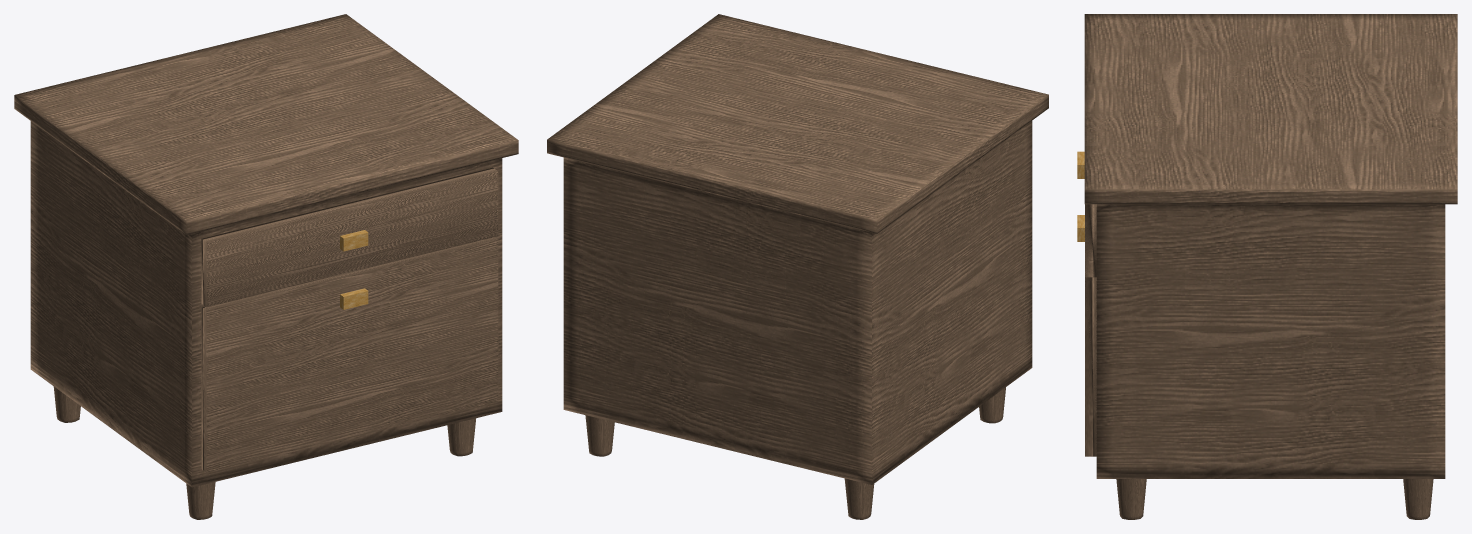
The model's file is nightstand.fbx.
The picture shows the model from 3 angles, left to right: view 1: azimuth 30°, elevation 25°; view 2: azimuth 150°, elevation 25°; view 3: azimuth 270°, elevation 25°; orthographic projection. The views are drawn at different scales.
Visible parts, largest first — view 1: base, drawer.002, drawer.001, support.001, support.002, support.003; view 2: base, support.003, support.004, support.001; view 3: base, drawer.002, support.002, support.004, drawer.001.
Part boxes in pixels (box(x1,y1,x2,y2)): base: box(14, 14, 518, 487); drawer.002: box(201, 237, 498, 472); drawer.001: box(201, 167, 498, 307); support.001: box(186, 482, 215, 519); support.002: box(447, 418, 476, 456); support.003: box(53, 386, 80, 422); base: box(547, 14, 1048, 484); support.003: box(844, 478, 874, 519); support.004: box(585, 415, 614, 456); support.001: box(979, 387, 1005, 423); base: box(1084, 14, 1457, 478); drawer.002: box(1085, 277, 1096, 456); support.002: box(1116, 479, 1146, 519); support.004: box(1403, 479, 1433, 519); drawer.001: box(1085, 204, 1096, 277).
Size of the model in its own units: 53.49 by 49.07 by 49.08.
